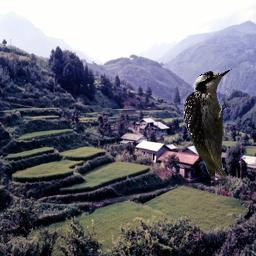Woodpecker: (179, 63, 236, 189)
